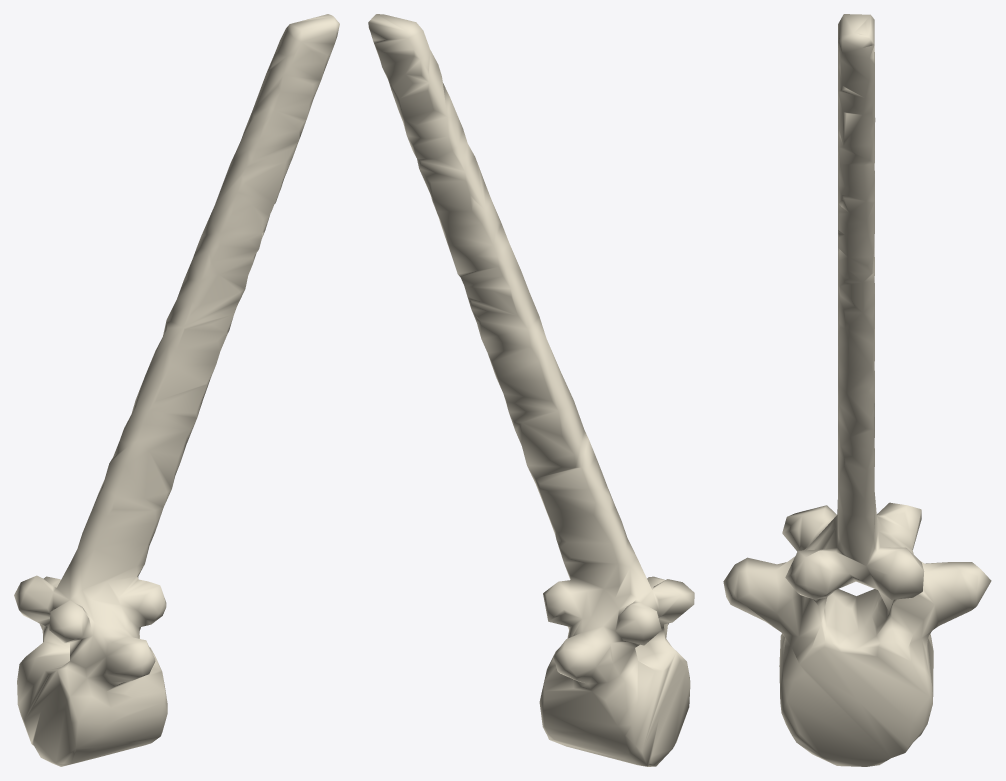
File: thoracic_6.glb
The picture shows the model from 3 angles, left to right: view 1: azimuth 30°, elevation 25°; view 2: azimuth 150°, elevation 25°; view 3: azimuth 270°, elevation 25°; orthographic projection. The views are drawn at different scales.
Visible parts, largest first — view 1: geometry_0; view 2: geometry_0; view 3: geometry_0.
Part boxes in pixels (<box>): geometry_0: <box>14,14,339,766</box>; geometry_0: <box>368,14,694,766</box>; geometry_0: <box>723,14,991,766</box>.
Bounding box in the file's own units: 0.3366 × 0.7177 × 0.2032.
